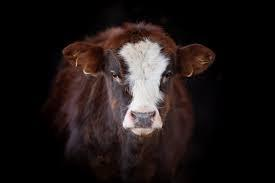cow: (53, 23, 216, 181)
